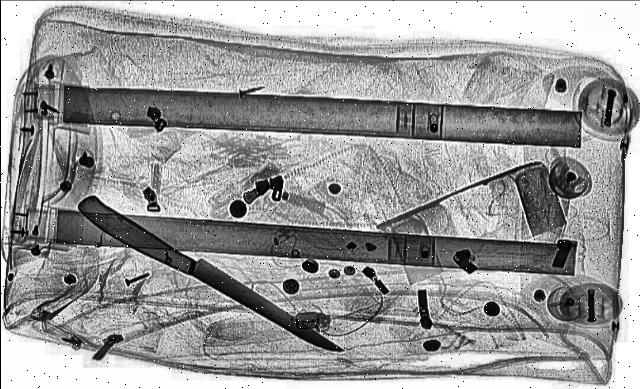Knife: (65, 194, 352, 358)
